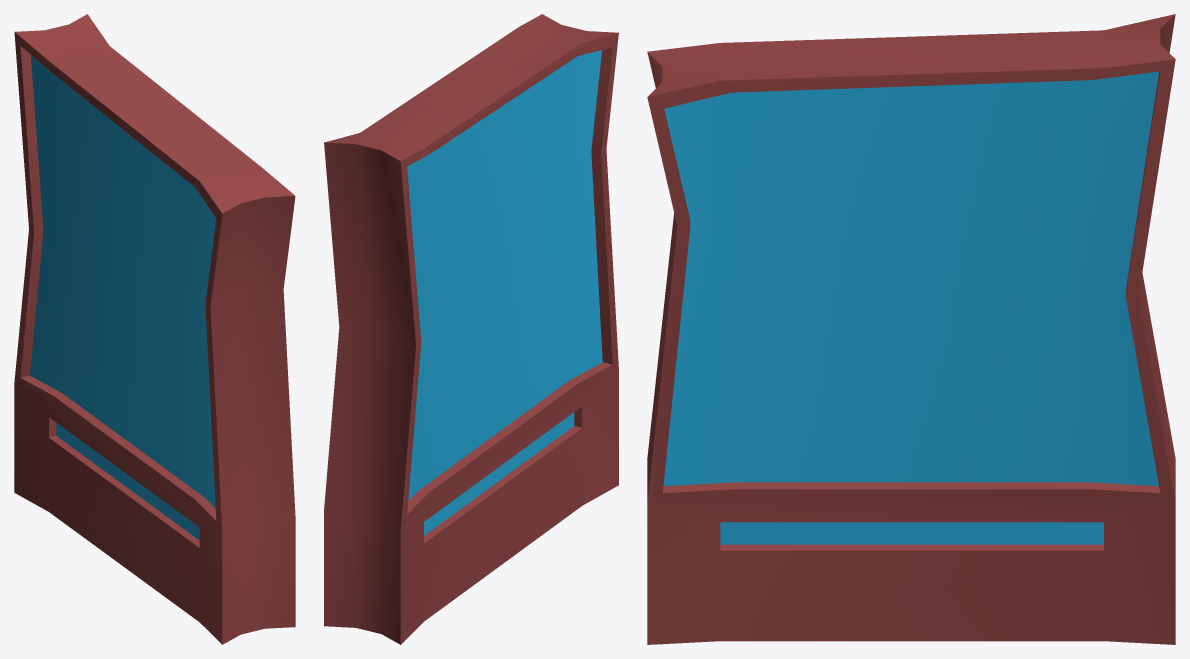
The model's file is SM_AdvertSign_03.fbx.
3 renders of one model, left to right at view 1: azimuth 30°, elevation 25°; view 2: azimuth 150°, elevation 25°; view 3: azimuth 270°, elevation 25°, orthographic. The views are drawn at different scales.
Parts seen in each view (by area): view 1: SM_AdvertSign_03; view 2: SM_AdvertSign_03; view 3: SM_AdvertSign_03.
Part boxes in pixels (bbox=[...]): SM_AdvertSign_03: bbox=[14, 14, 295, 644]; SM_AdvertSign_03: bbox=[324, 14, 618, 644]; SM_AdvertSign_03: bbox=[647, 14, 1175, 644].
Bounding box in the file's own units: 143 × 860 × 703.
